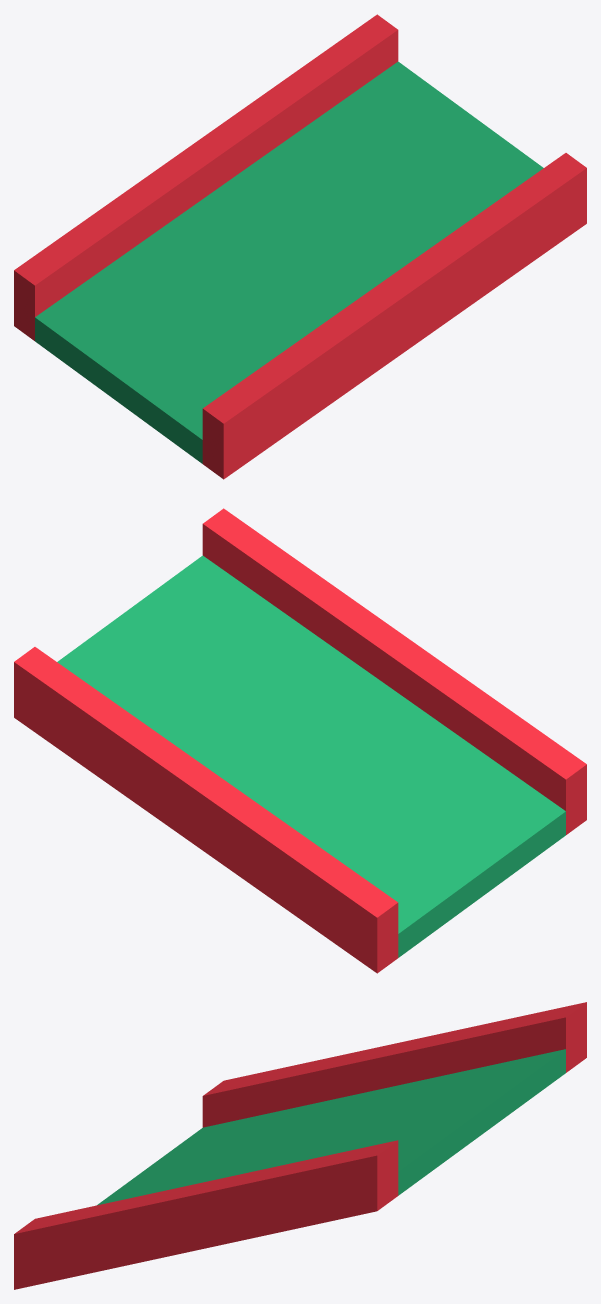
Rendered from rampC.obj.
The picture shows the model from 3 angles, top to bottom: view 1: azimuth 30°, elevation 25°; view 2: azimuth 150°, elevation 25°; view 3: azimuth 330°, elevation 25°; orthographic projection.
Parts seen in each view (by area): view 1: rampC; view 2: rampC; view 3: rampC.
Boxes of the visible parts, bbox=[...] form: rampC: bbox=[14, 14, 586, 479]; rampC: bbox=[14, 508, 586, 973]; rampC: bbox=[14, 1002, 586, 1289].
Bounding box in the file's own units: 0.9999 × 0.5866 × 0.9999.
